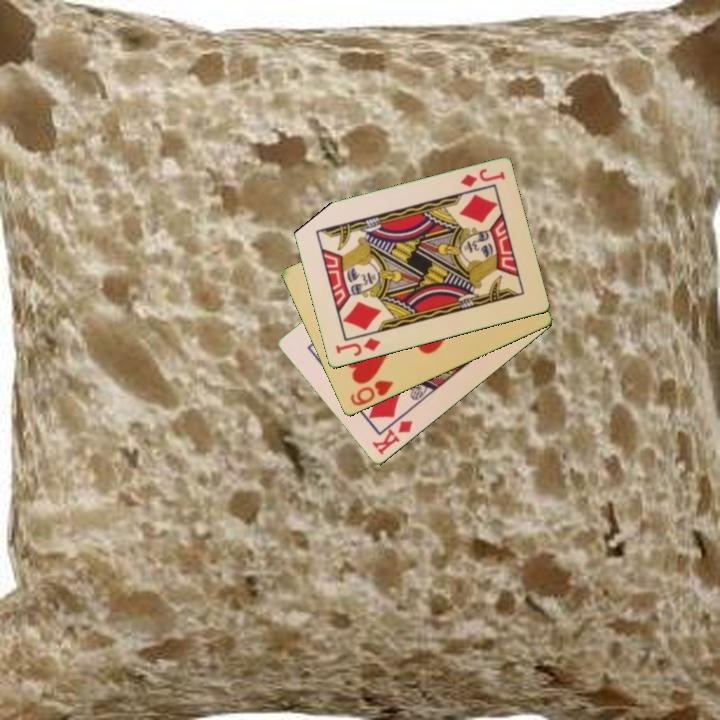6h: (346, 377, 396, 409)
Jd: (332, 334, 383, 360), (457, 165, 508, 191)
Kd: (368, 409, 416, 458)
